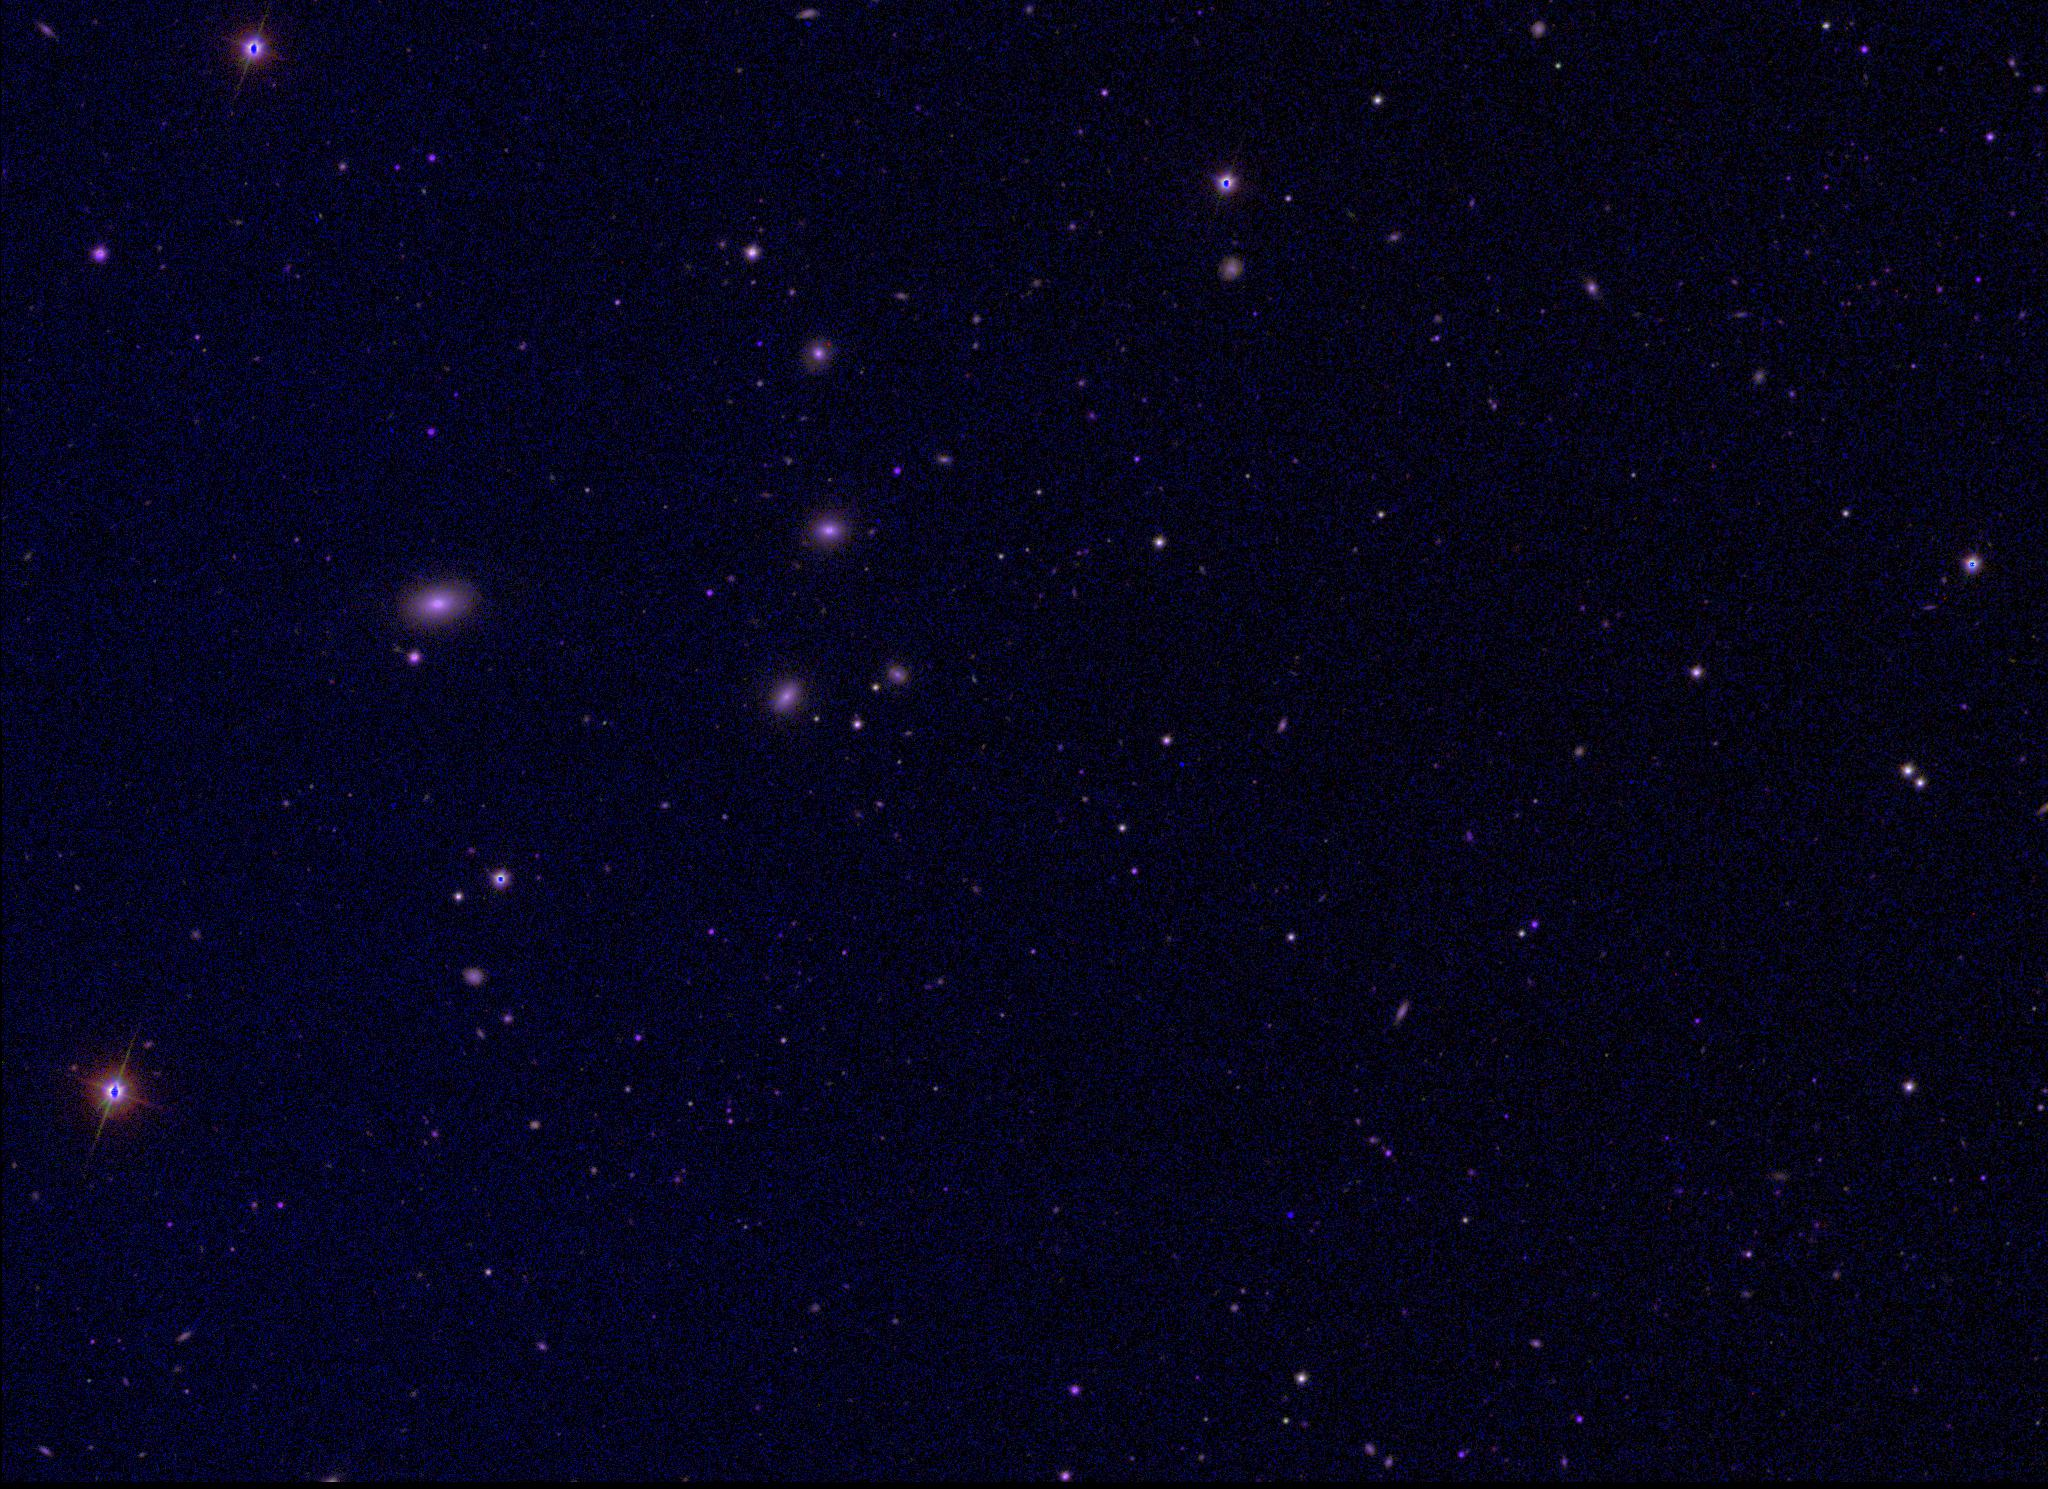L: (1282, 1207, 1296, 1222)
